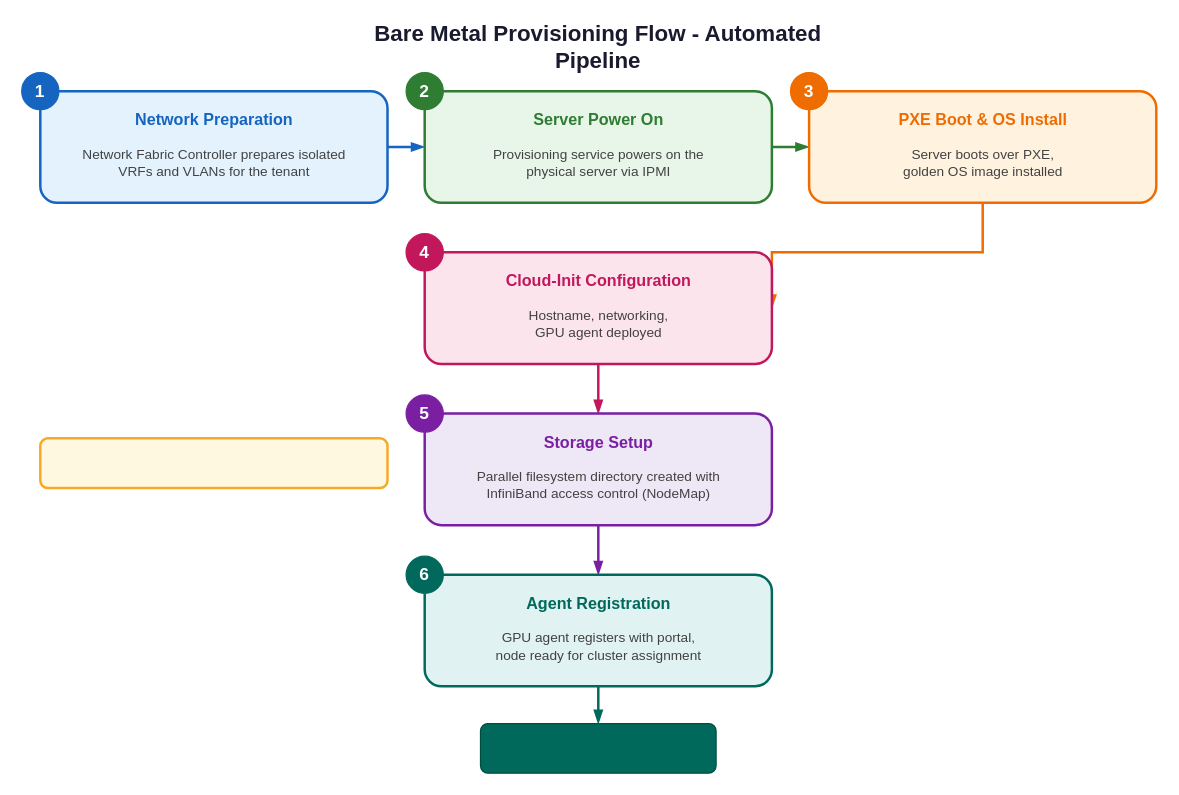
Image size: 1179x795. Some labels were removed from this diagram. The shapes that lost their labels are listed below. From the top down, each one's centre as x and y in pixels, then its label:
point 213,462: ⚡ No SSH, no manual configuration, no ticket-based provisioning
point 597,747: ✓ Node Ready
